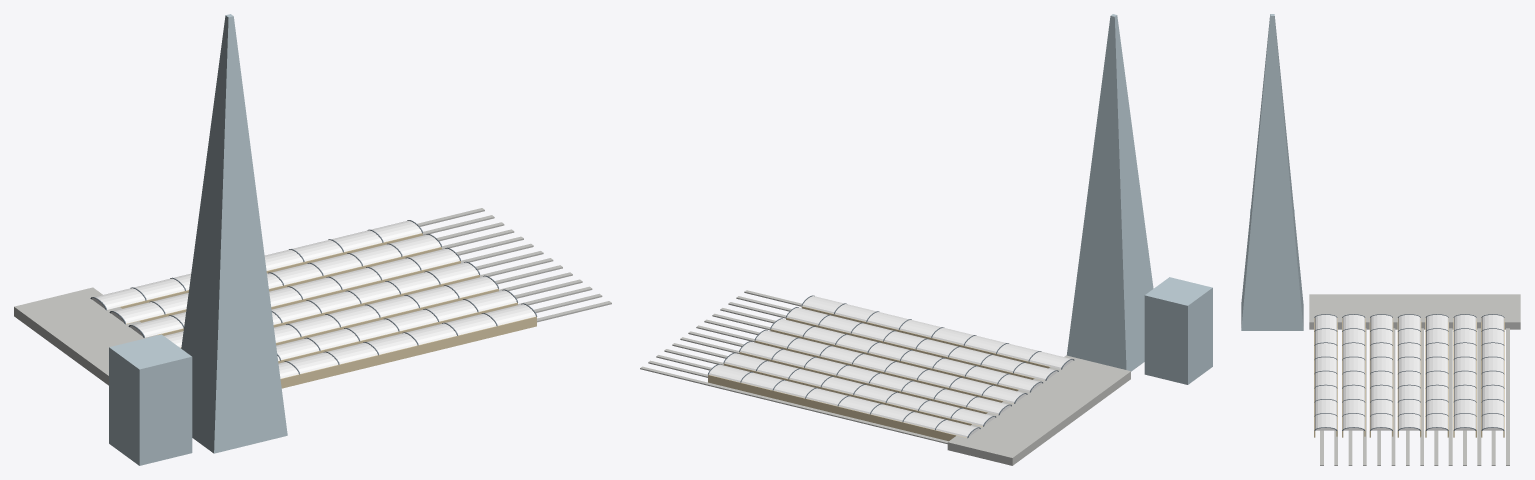
Rendered from terminal_london-bridge.glb.
3 views of the same model, side by side, from view 1: azimuth 30°, elevation 25°; view 2: azimuth 150°, elevation 25°; view 3: azimuth 270°, elevation 25° (orthographic). The views are drawn at different scales.
Visible parts, largest first — view 1: london-bridge; view 2: london-bridge; view 3: london-bridge.
Part boxes in pixels (x1,y1,x2,y2): london-bridge: (14, 14, 611, 465); london-bridge: (640, 14, 1212, 465); london-bridge: (1241, 14, 1520, 465).
Size of the model in its own units: 395 by 300 by 251.
